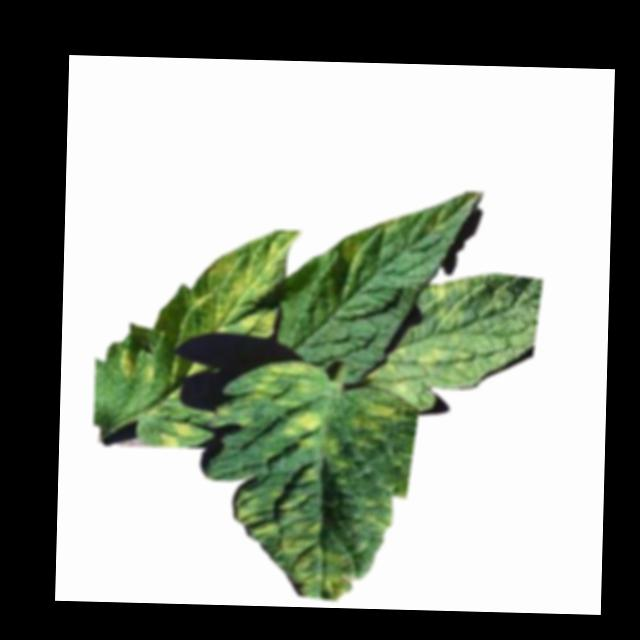Leaf_Mold: (229, 462, 358, 600), (175, 228, 298, 341), (369, 337, 488, 405), (246, 359, 327, 412), (426, 276, 478, 330), (284, 412, 343, 457), (351, 395, 397, 438), (116, 348, 158, 387), (342, 230, 373, 274), (157, 419, 198, 450), (379, 215, 408, 236)
